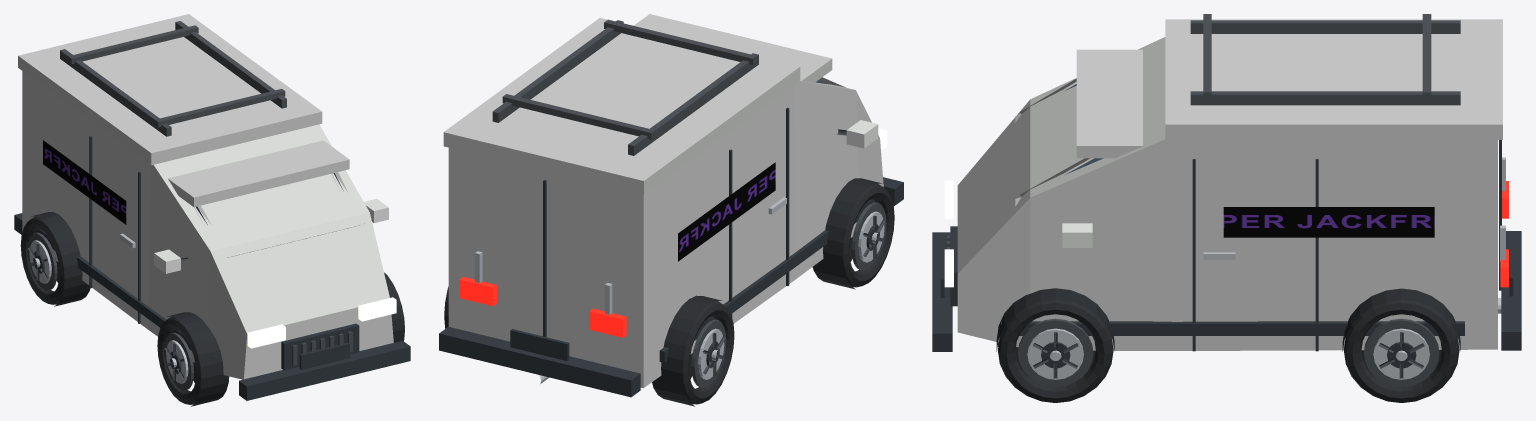
The model's file is car-van.glb.
3 renders of one model, left to right at view 1: azimuth 30°, elevation 25°; view 2: azimuth 150°, elevation 25°; view 3: azimuth 270°, elevation 25°, orthographic. The views are drawn at different scales.
Parts seen in each view (by area): view 1: body-detail, wheel-front-left, wheel-back-left, wheel-front-right; view 2: body-detail, wheel-back-left, wheel-front-left; view 3: body-detail, wheel-front-right, wheel-back-right.
Boxes of the visible parts, x1,y1,x2,y2 form: body-detail: (14, 14, 410, 400); wheel-front-left: (157, 312, 229, 406); wheel-back-left: (20, 212, 90, 306); wheel-front-right: (384, 272, 404, 342); body-detail: (439, 14, 903, 397); wheel-back-left: (652, 295, 734, 406); wheel-front-left: (812, 178, 894, 289); body-detail: (932, 14, 1521, 351); wheel-front-right: (996, 288, 1114, 402); wheel-back-right: (1342, 288, 1460, 402).
Size of the model in its own units: 1.93 by 1.9 by 3.49.
10 materials, 1 textured.
